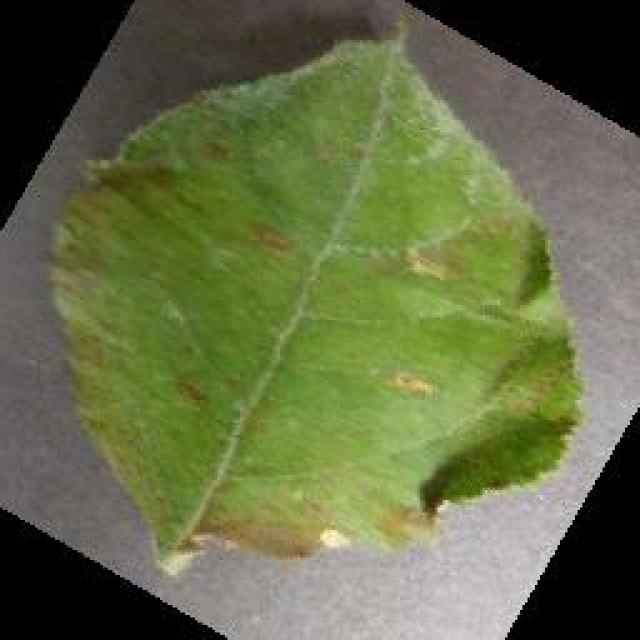apple cedar apple rust: (43, 20, 585, 575)
